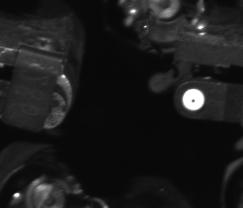fiber: (180, 86, 209, 114)
